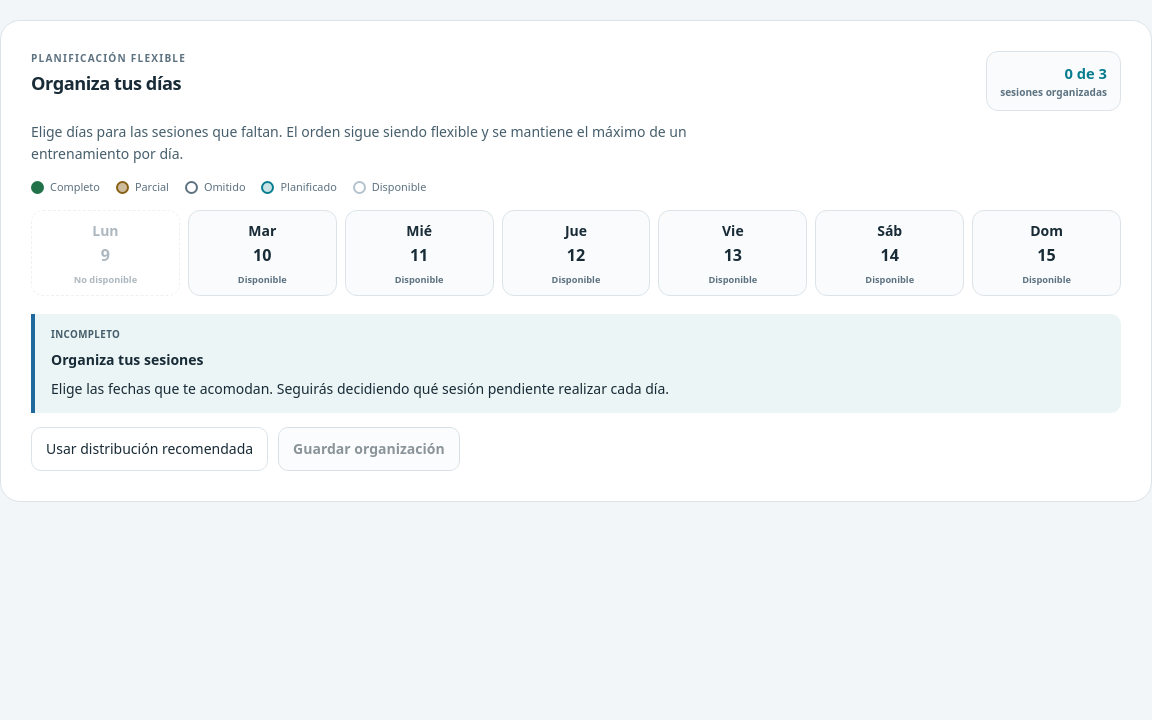
it: WeeklyTrainingPlanner › warns immediately when three consecutive days are selected
Click the button "Mar 10 Disponible" at (262, 253), box x1=188 y1=210 x2=337 y2=296
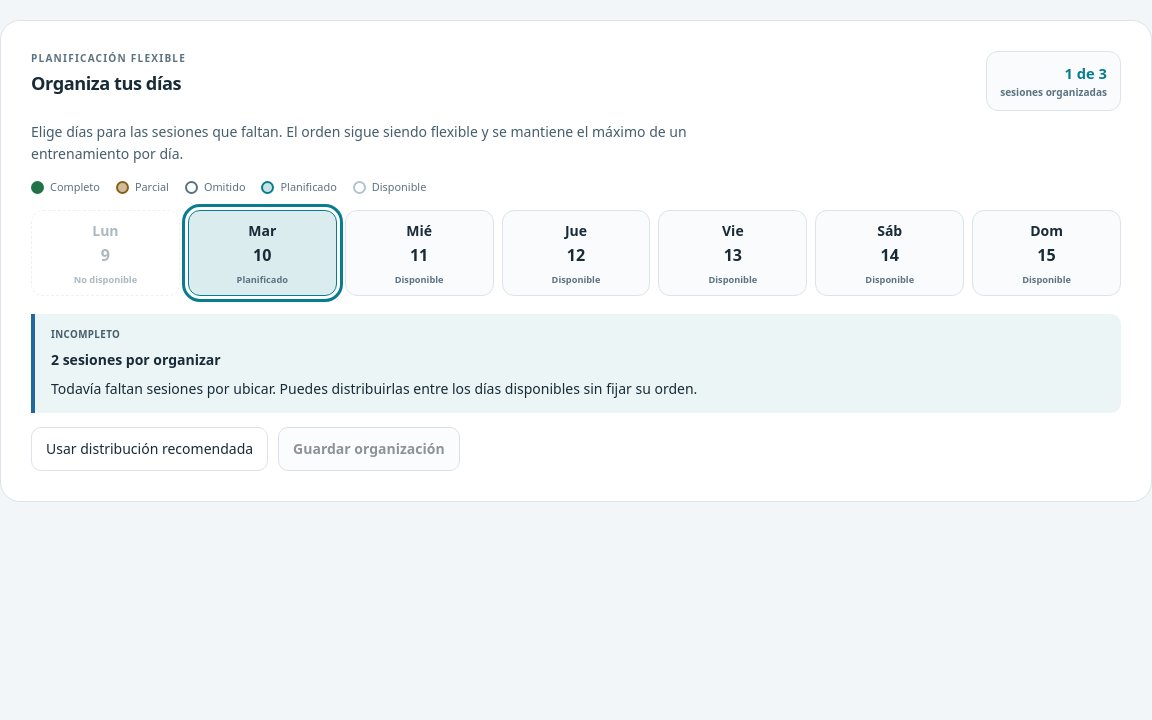
Click the button "Mié 11 Disponible" at (419, 253), box x1=345 y1=210 x2=494 y2=296
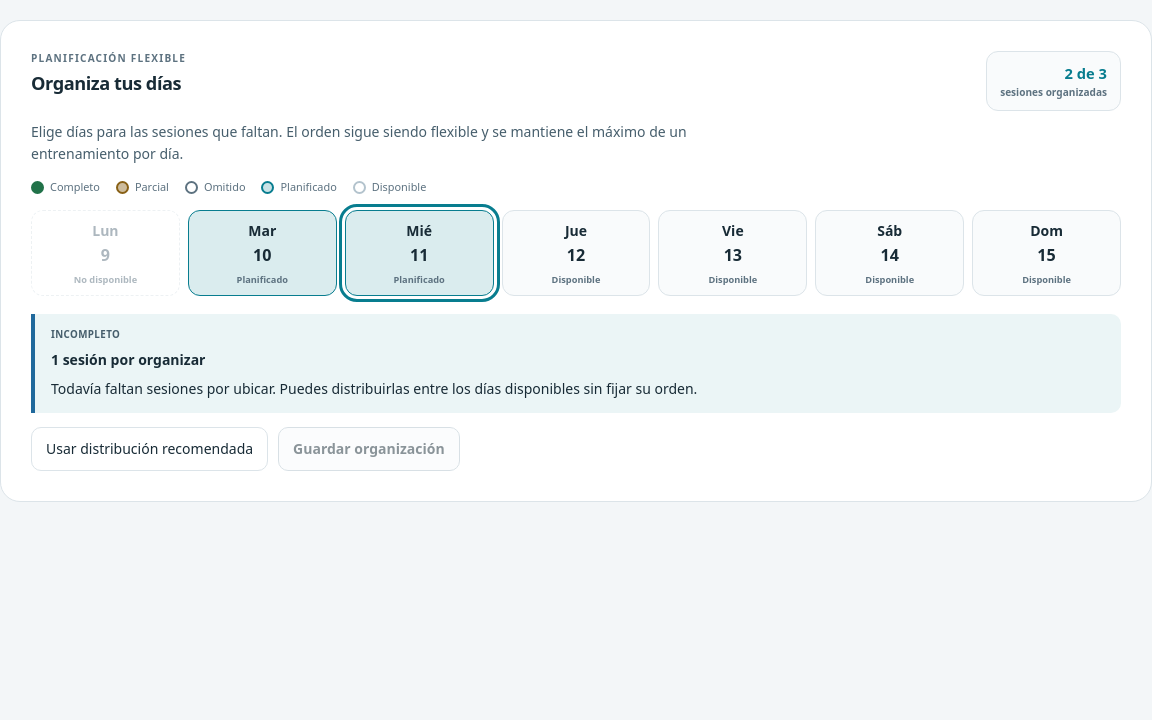
Click the button "Jue 12 Disponible" at (576, 253), box x1=502 y1=210 x2=650 y2=296
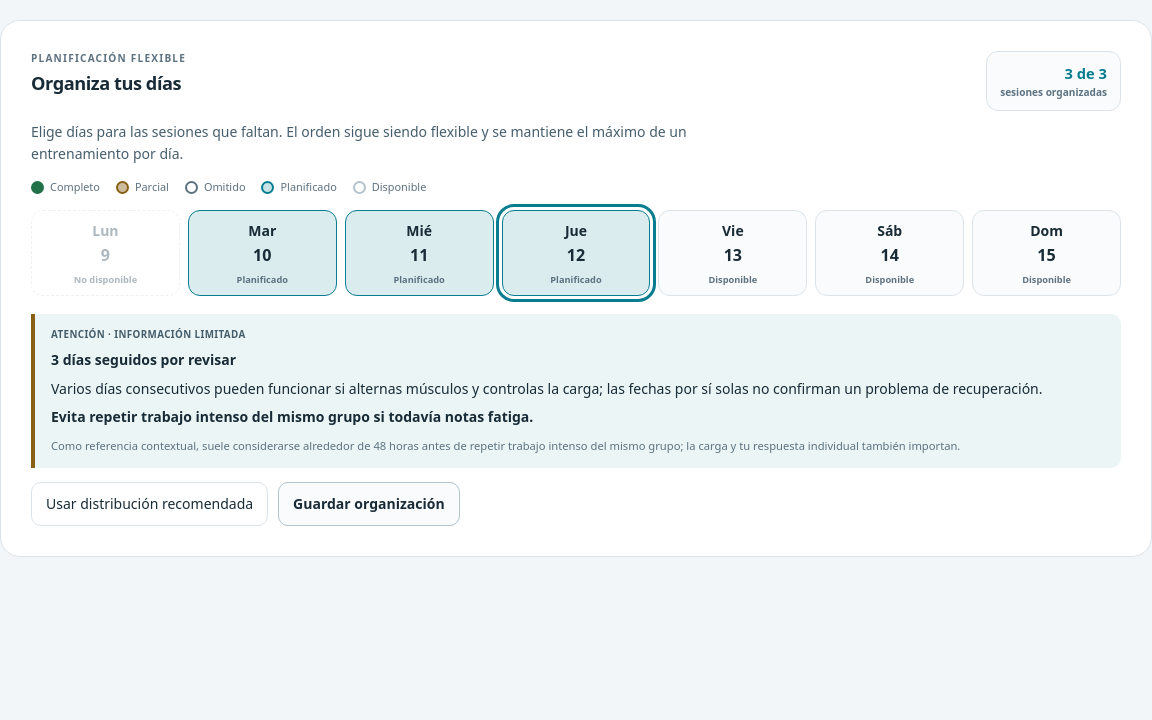
Expected: the text "un entrenamiento por día" is shown, x1=31 y1=122 x2=687 y2=163
Expected: the message shows "las fechas por sí solas no confirman un problema", x1=51 y1=379 x2=1042 y2=398
